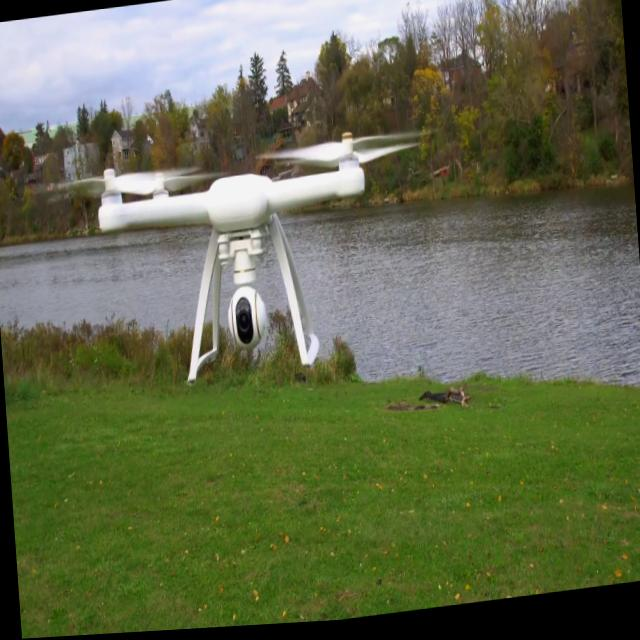drone: (61, 111, 456, 405)
